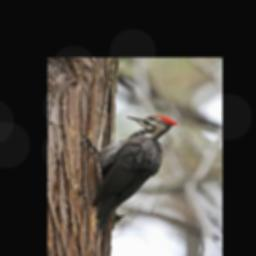Woodpecker: (81, 114, 179, 238)
